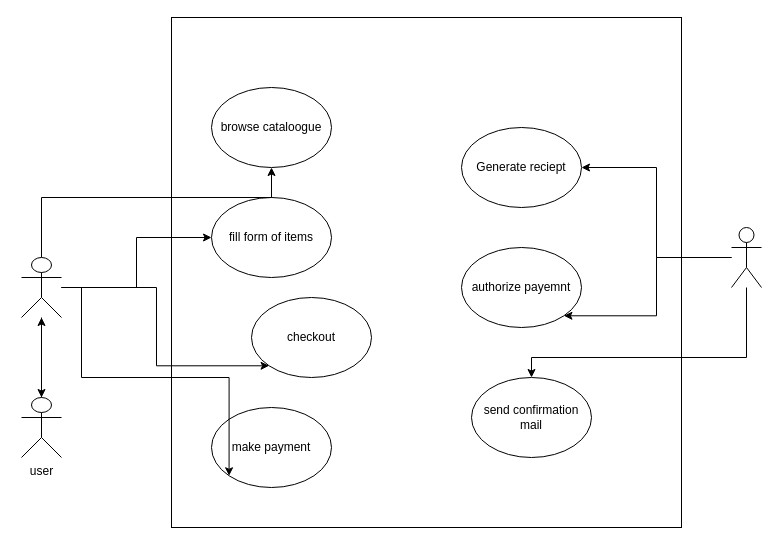
This 783x545 diagram has some shape labels left out. The centre of each missing label's shape, as x and y in pixels:
customer: [41,287]
system: [746,257]
